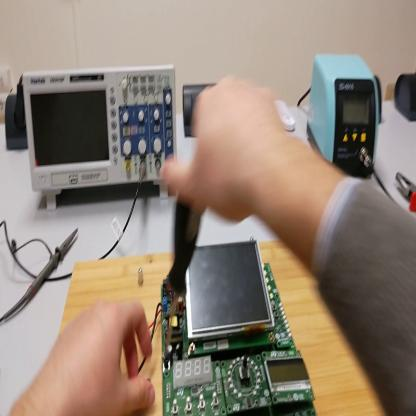hand: (164, 76, 285, 229), (38, 298, 156, 416)
low voltage board: (142, 231, 318, 404)
oscilloscope: (24, 71, 176, 214)
oscilloscope probe tip: (5, 231, 79, 323)
pliers: (396, 170, 416, 214)
screwdriver-: (155, 202, 204, 372)
socket: (7, 94, 29, 150), (396, 74, 415, 123), (375, 75, 383, 125)
welder station: (307, 53, 378, 181)
working area: (62, 240, 388, 416)
